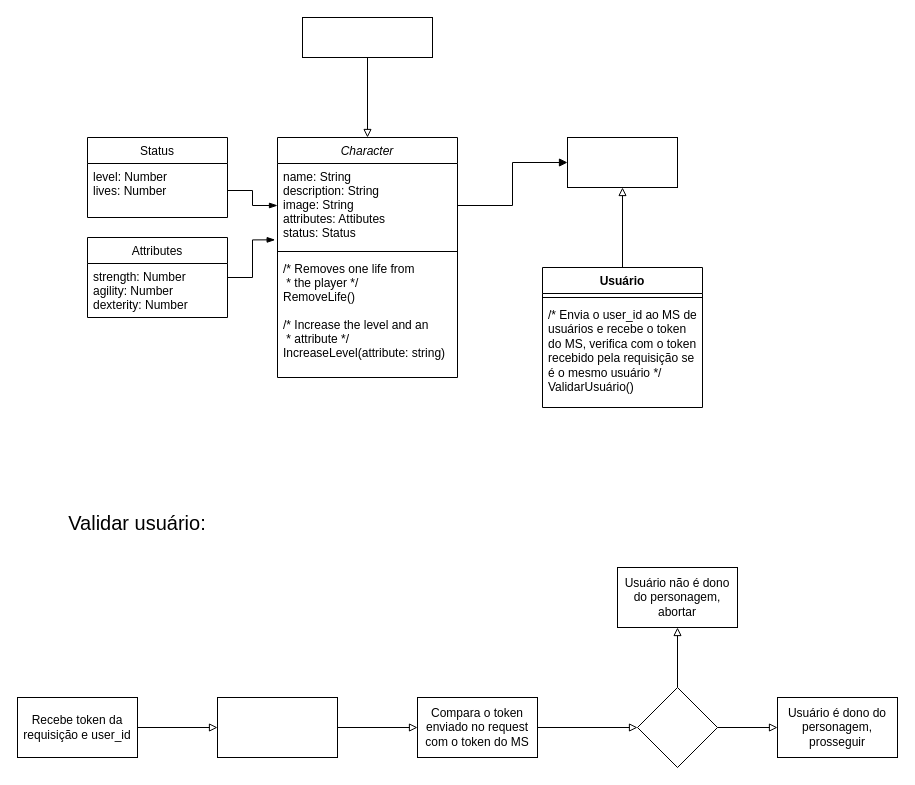
The diagram is 915 pixels wide and 785 high, and some of its shapes have lost their labels. The centre of each missing label's shape, as x and y in pixels:
"Envia user_id ao MS de usuários e recebe o token do MS" goes at point (277, 727).
"São iguais?" goes at point (677, 727).
"«interface» Mongoose.Document" goes at point (367, 37).
"«interface» Usuário" goes at point (622, 162).
